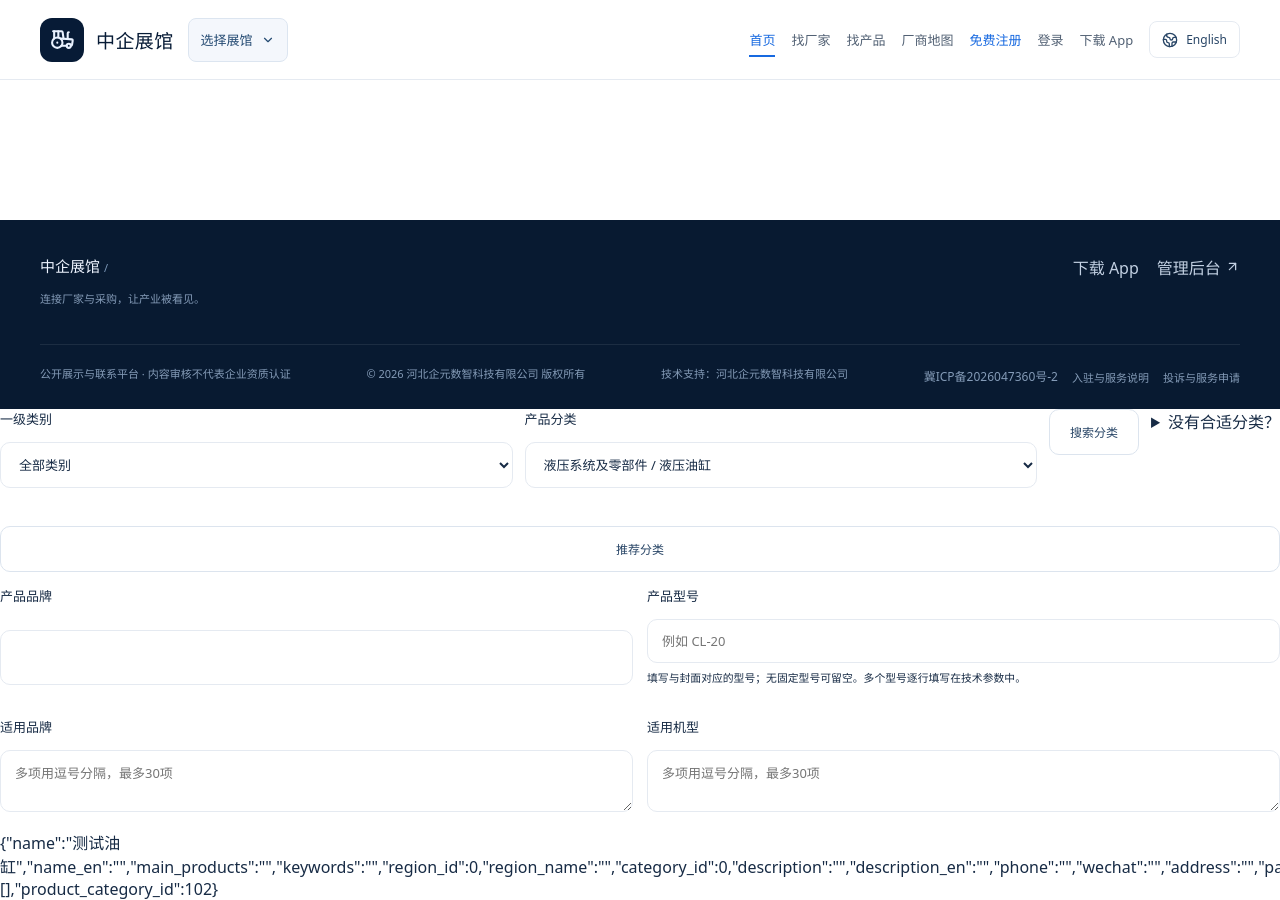
it: searches full paths and aliases, blocks parent selection and applies recommendations only on click
This screenshot has width=1280, height=900.
(page scrolled)
Click the button "推荐分类" at (640, 549), box [0, 526, 1279, 572]
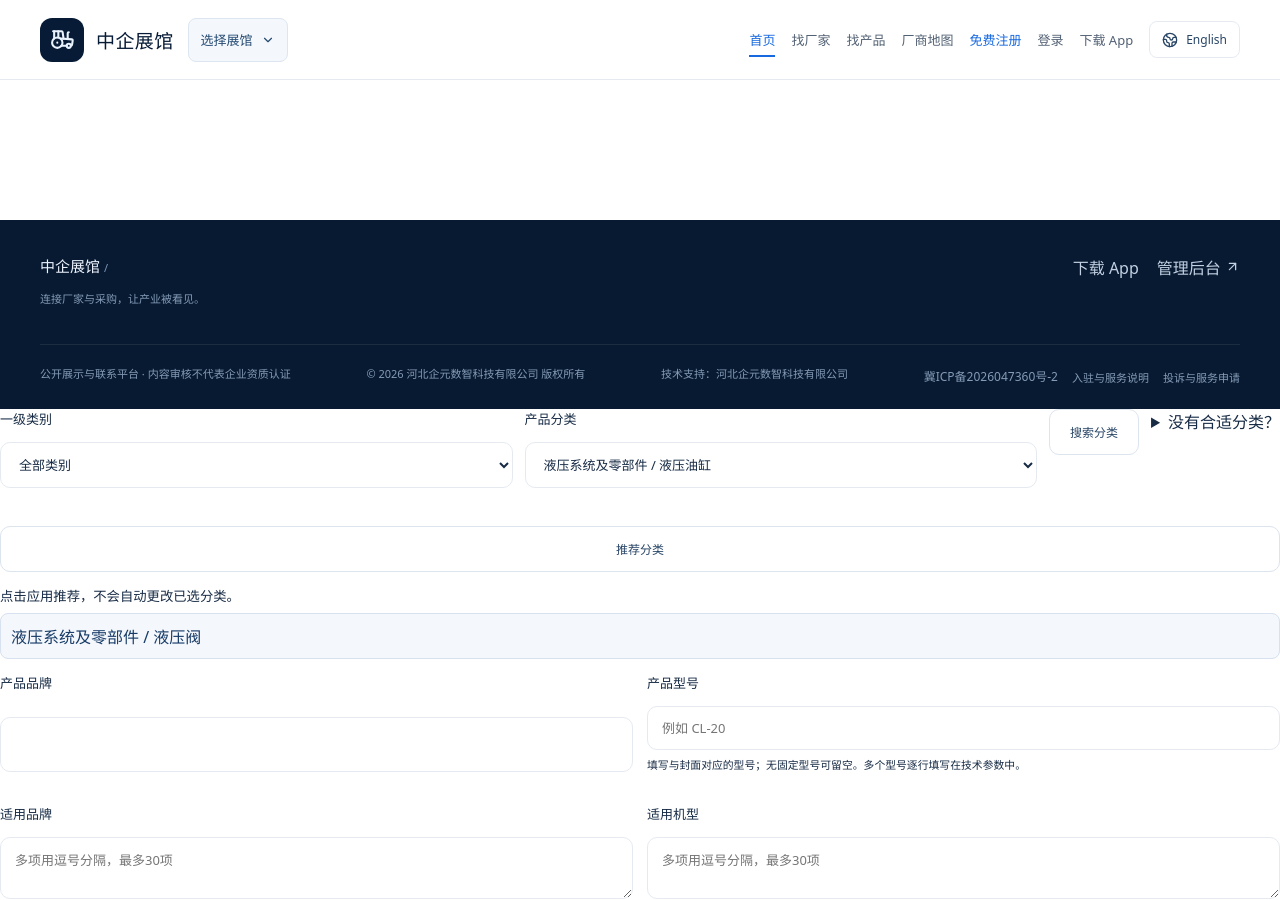
Now the button "液压系统及零部件 / 液压阀" is shown
Click the button "液压系统及零部件 / 液压阀" at (106, 637), box [0, 613, 1279, 659]
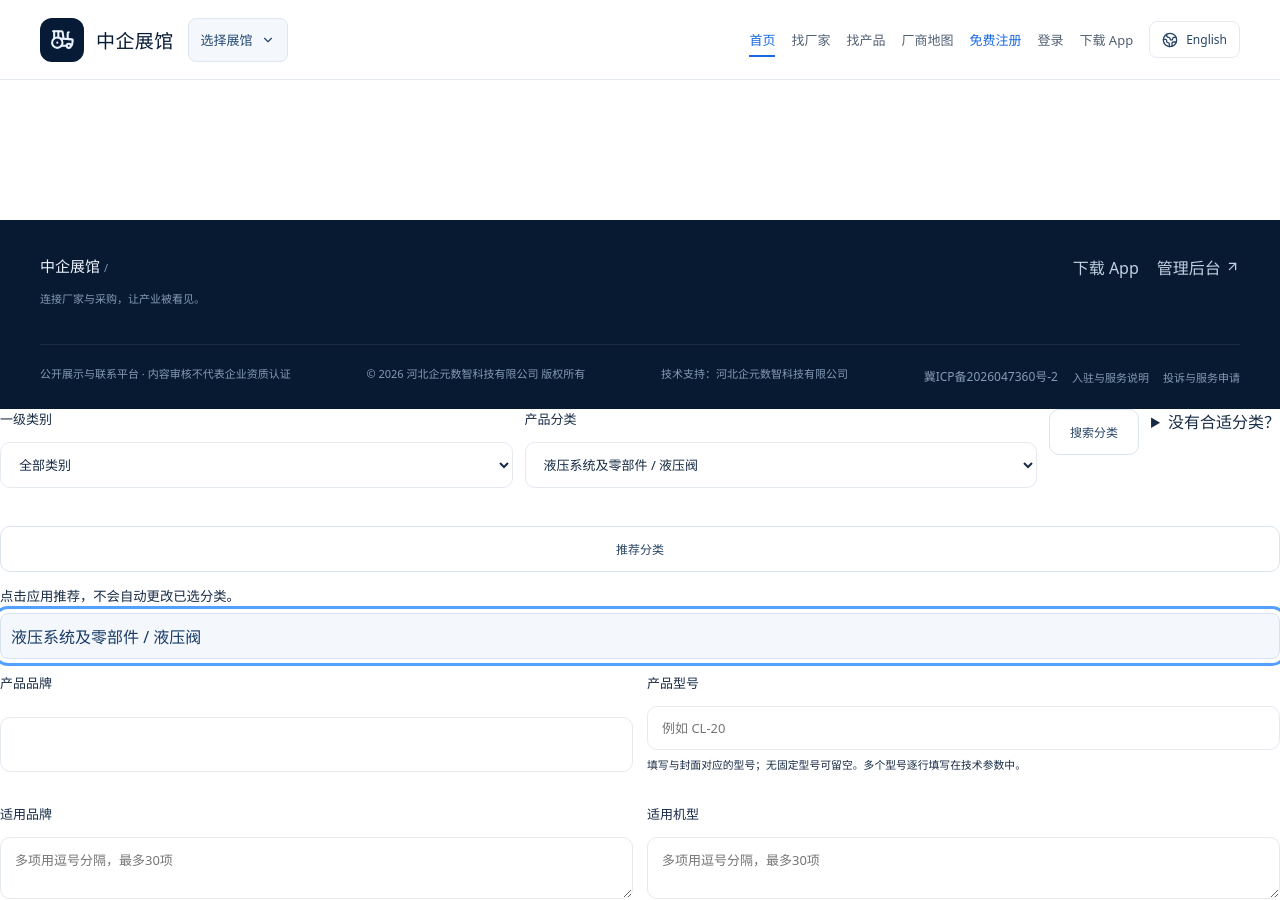
Click the button "搜索分类" at (1094, 432), box [1049, 409, 1139, 455]
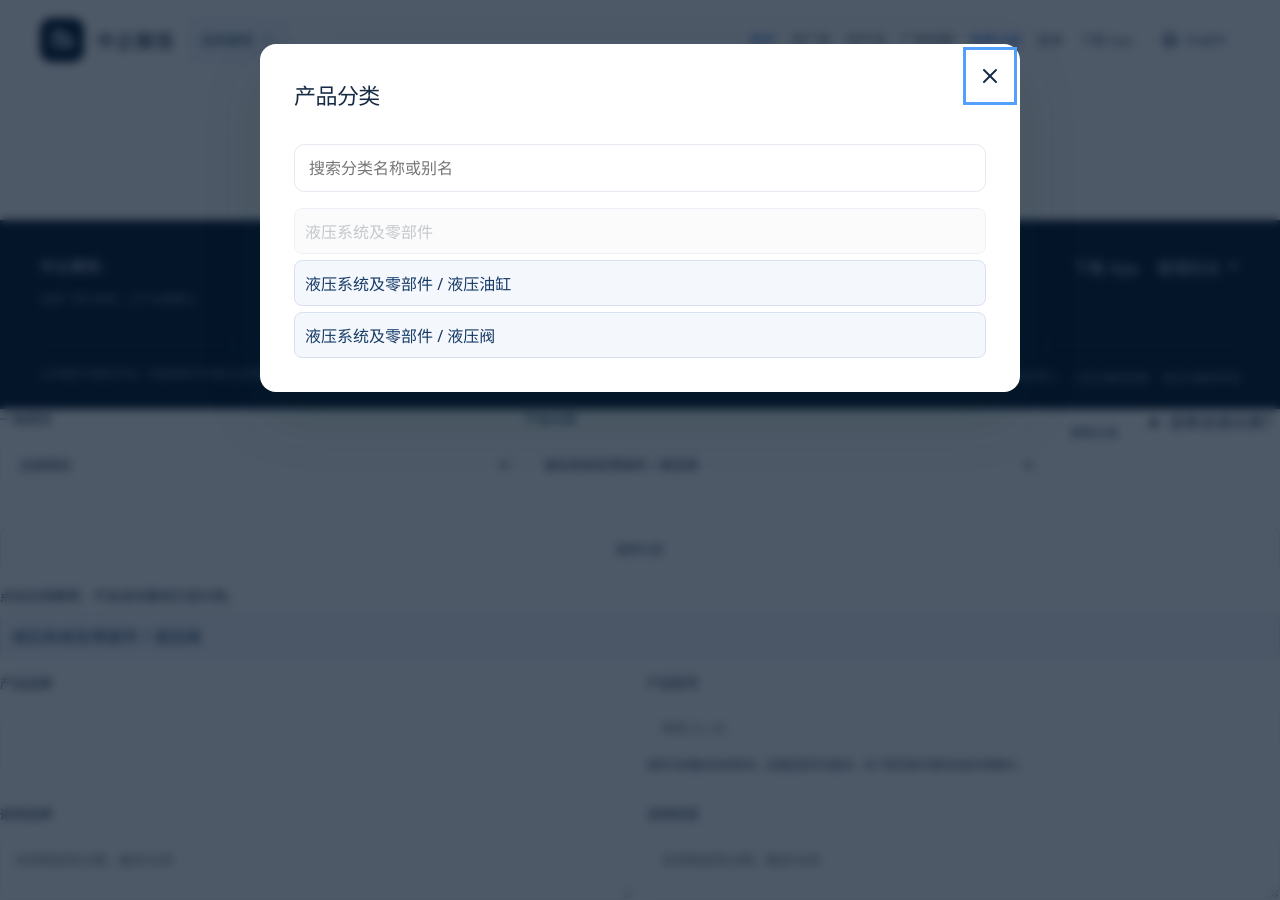
Type "油缸" into the search field at (640, 168), box [294, 144, 986, 192]
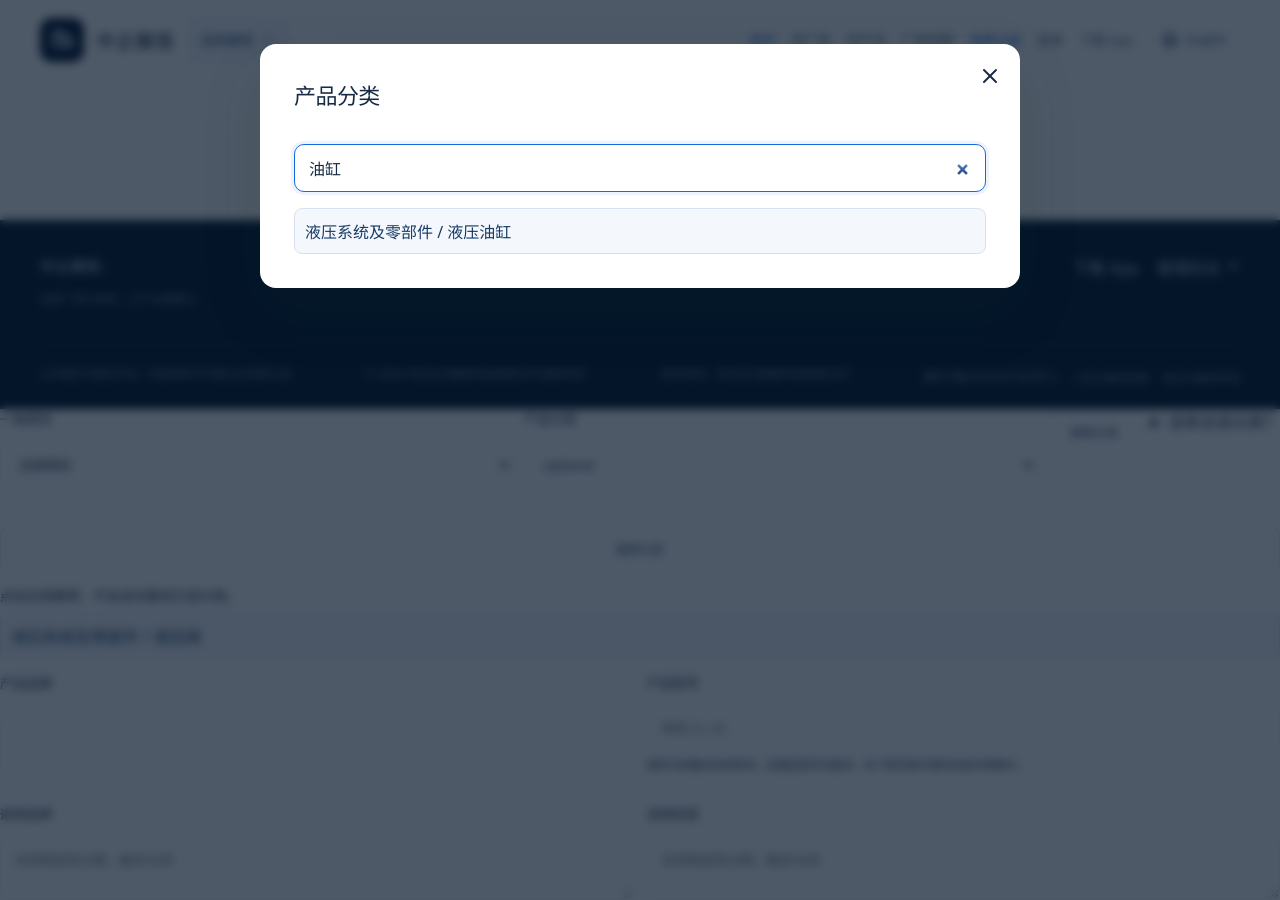
Click the button "液压系统及零部件 / 液压油缸" at (408, 232), box [294, 208, 986, 254]
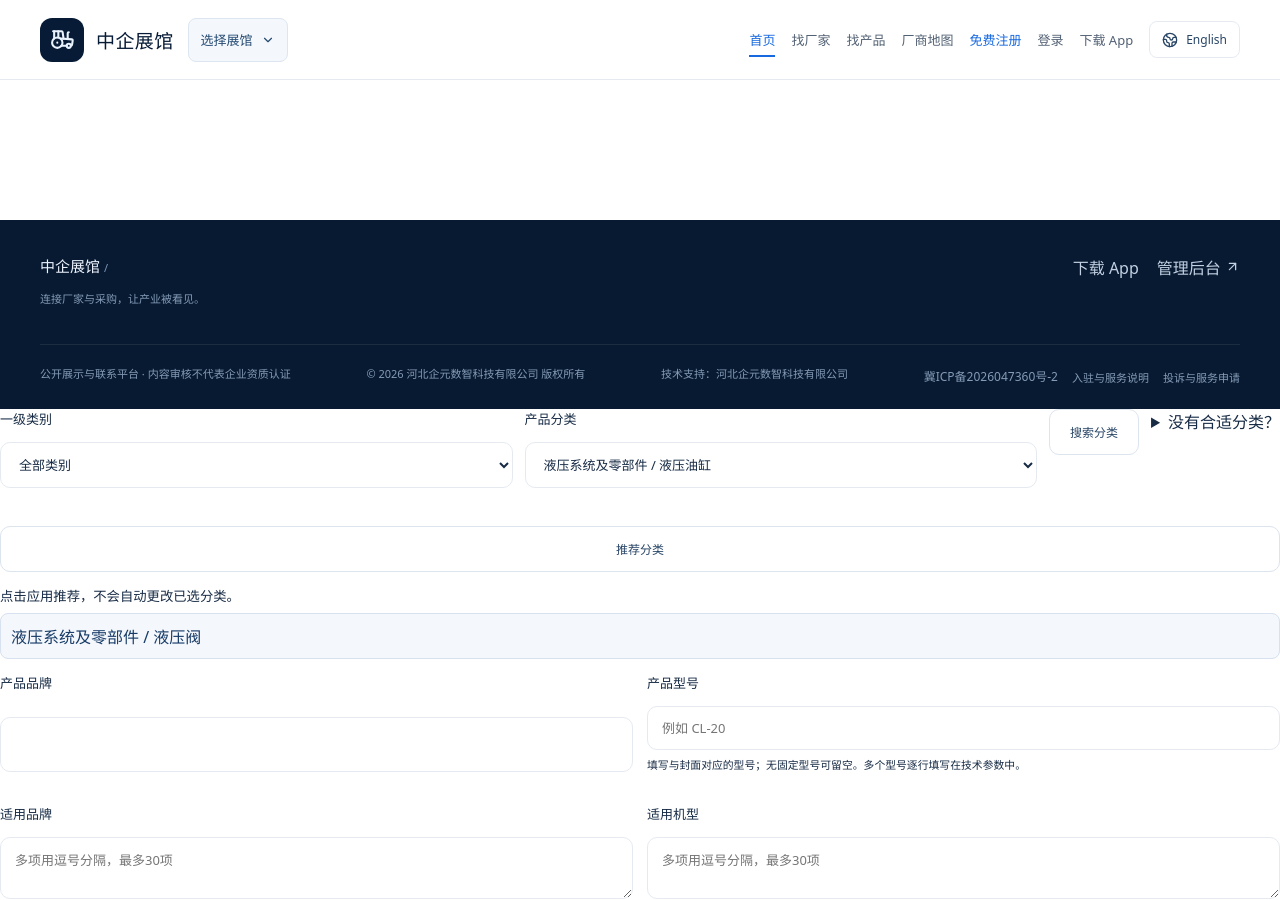
Now the dialog is gone
